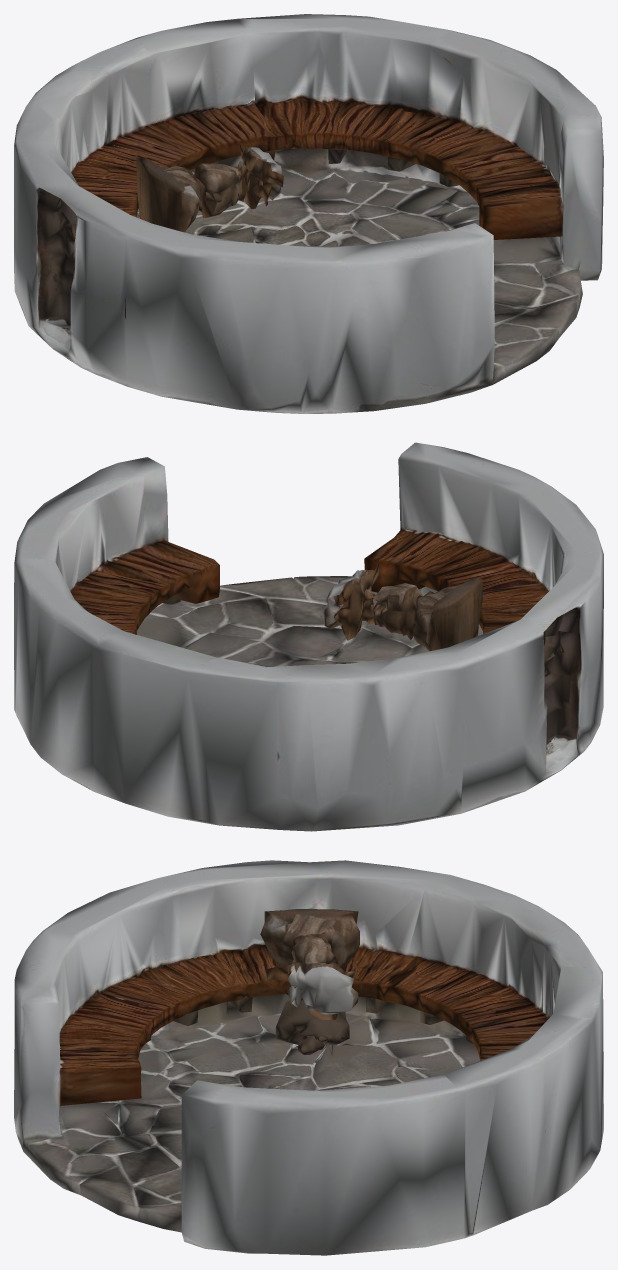
File: treebench2_lod1.glb
3 views of the same model, one above another, from view 1: azimuth 30°, elevation 25°; view 2: azimuth 150°, elevation 25°; view 3: azimuth 270°, elevation 25° (orthographic).
Parts seen in each view (by area): view 1: tripo_node_d350f1d2-0da8-4a9d-b4f4-1c8ba24df5ca; view 2: tripo_node_d350f1d2-0da8-4a9d-b4f4-1c8ba24df5ca; view 3: tripo_node_d350f1d2-0da8-4a9d-b4f4-1c8ba24df5ca.
Boxes of the visible parts, bbox=[...] form: tripo_node_d350f1d2-0da8-4a9d-b4f4-1c8ba24df5ca: bbox=[14, 14, 603, 413]; tripo_node_d350f1d2-0da8-4a9d-b4f4-1c8ba24df5ca: bbox=[14, 442, 603, 831]; tripo_node_d350f1d2-0da8-4a9d-b4f4-1c8ba24df5ca: bbox=[14, 860, 603, 1255].
Size of the model in its own units: 2.82 by 0.7963 by 2.82.
1 material, 1 textured.
